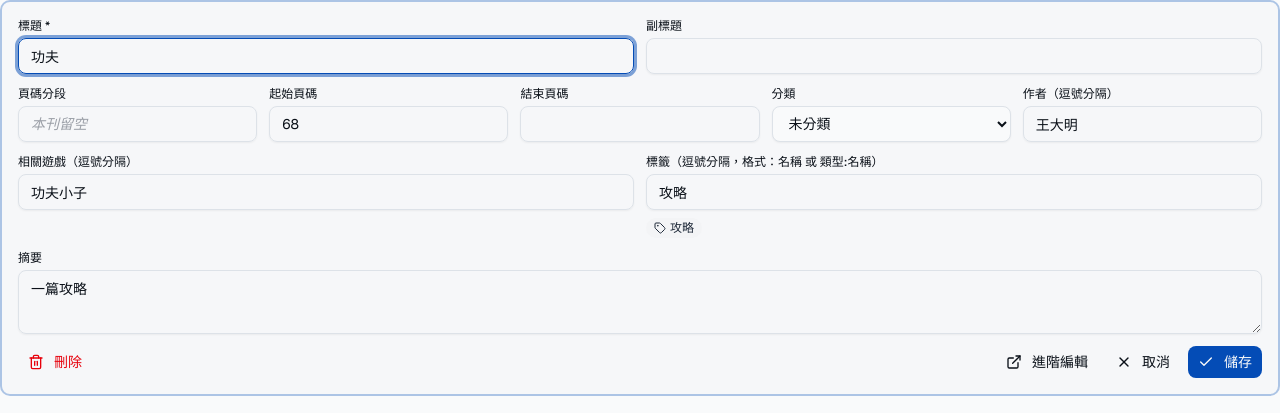
Test case: EditableArticleRow › keeps a typed comma in the games field
This screenshot has width=1280, height=413.
Step 1. Type ", 功夫小子2" into the field showing "功夫小子" below "相關遊戲（逗號分隔）" → [326, 192], box [18, 174, 634, 210]
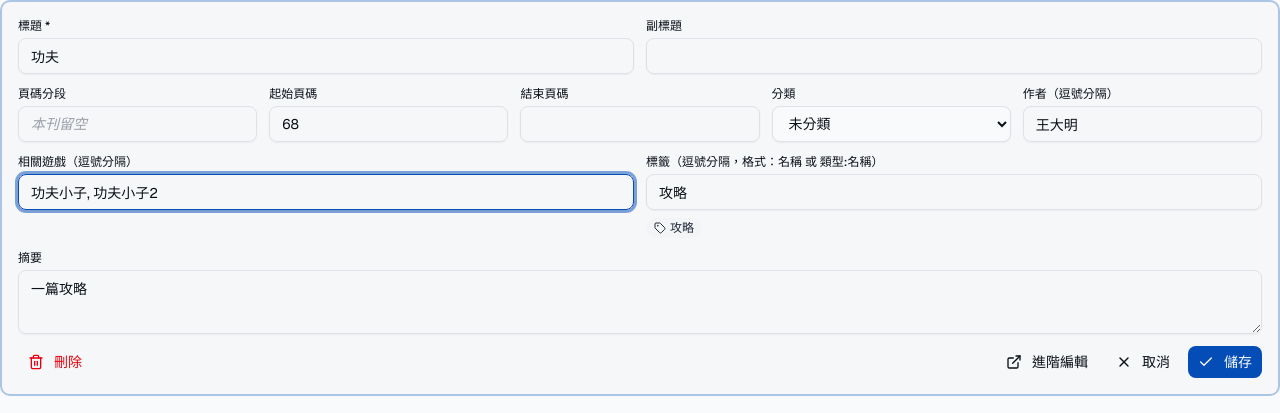
Expected: the field showing "功夫小子" below "相關遊戲（逗號分隔）" holds "功夫小子, 功夫小子2", [18, 174, 634, 210]
